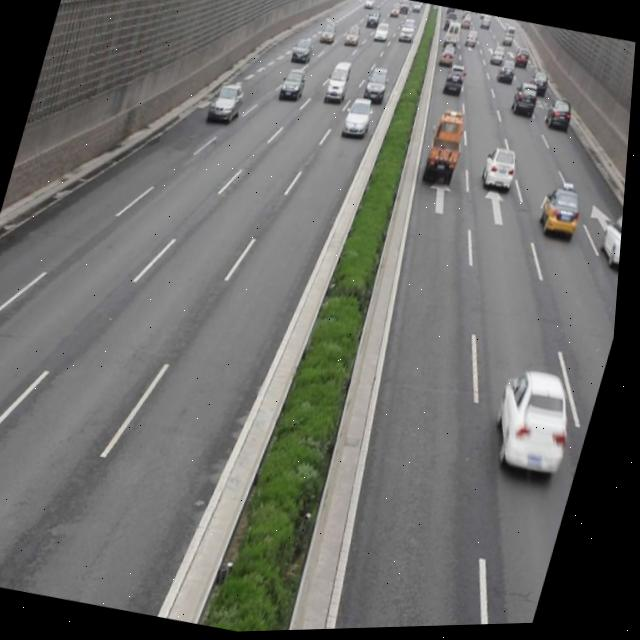bus: (423, 112, 470, 184)
car: (485, 364, 590, 489), (539, 187, 585, 240), (479, 148, 521, 197), (597, 214, 627, 274), (340, 94, 376, 141), (209, 81, 248, 123), (280, 69, 309, 102)
